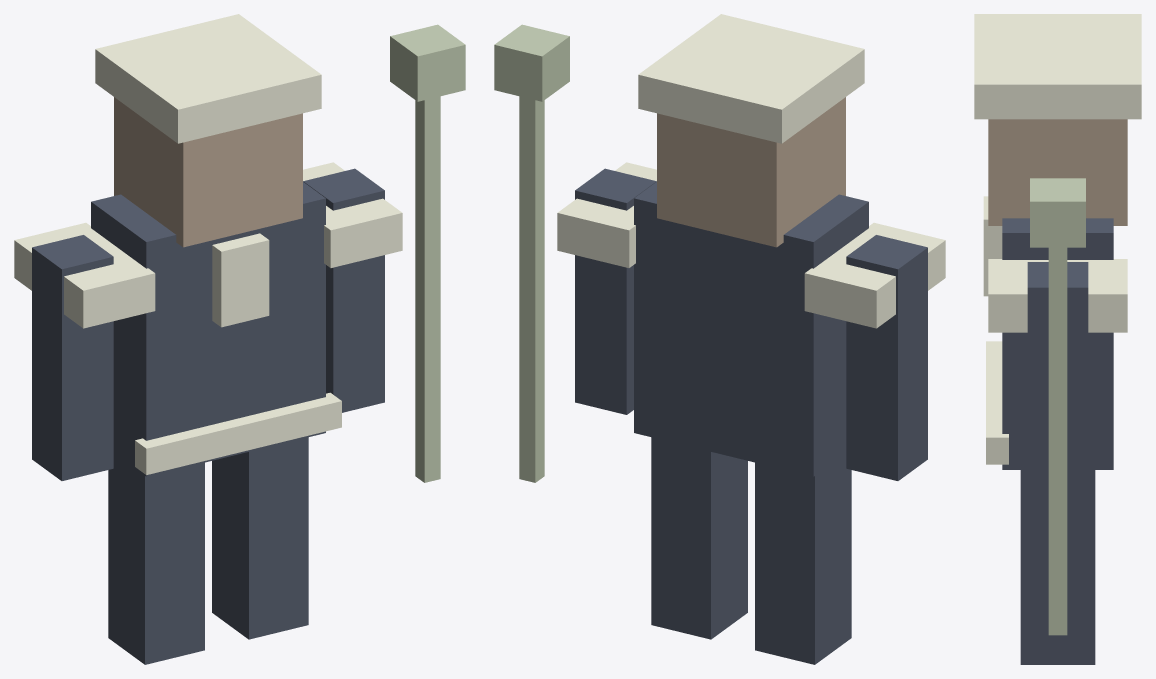
The model's file is 08_vela_deepwell_oracle_near_drone.glb.
The picture shows the model from 3 angles, left to right: view 1: azimuth 30°, elevation 25°; view 2: azimuth 150°, elevation 25°; view 3: azimuth 270°, elevation 25°; orthographic projection.
Parts seen in each view (by area): view 1: Vela Deepwell, Oracle near Drone; view 2: Vela Deepwell, Oracle near Drone; view 3: Vela Deepwell, Oracle near Drone.
Part boxes in pixels (<box>): Vela Deepwell, Oracle near Drone: <box>14,14,465,664</box>; Vela Deepwell, Oracle near Drone: <box>494,14,945,664</box>; Vela Deepwell, Oracle near Drone: <box>974,14,1141,664</box>.
Bounding box in the file's own units: 1.11 × 1.49 × 0.393.
